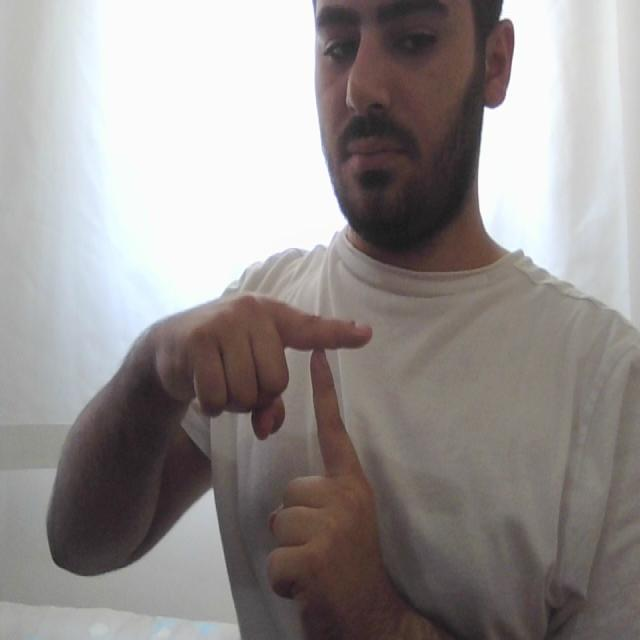Tesekkurler: (271, 282, 385, 501)
